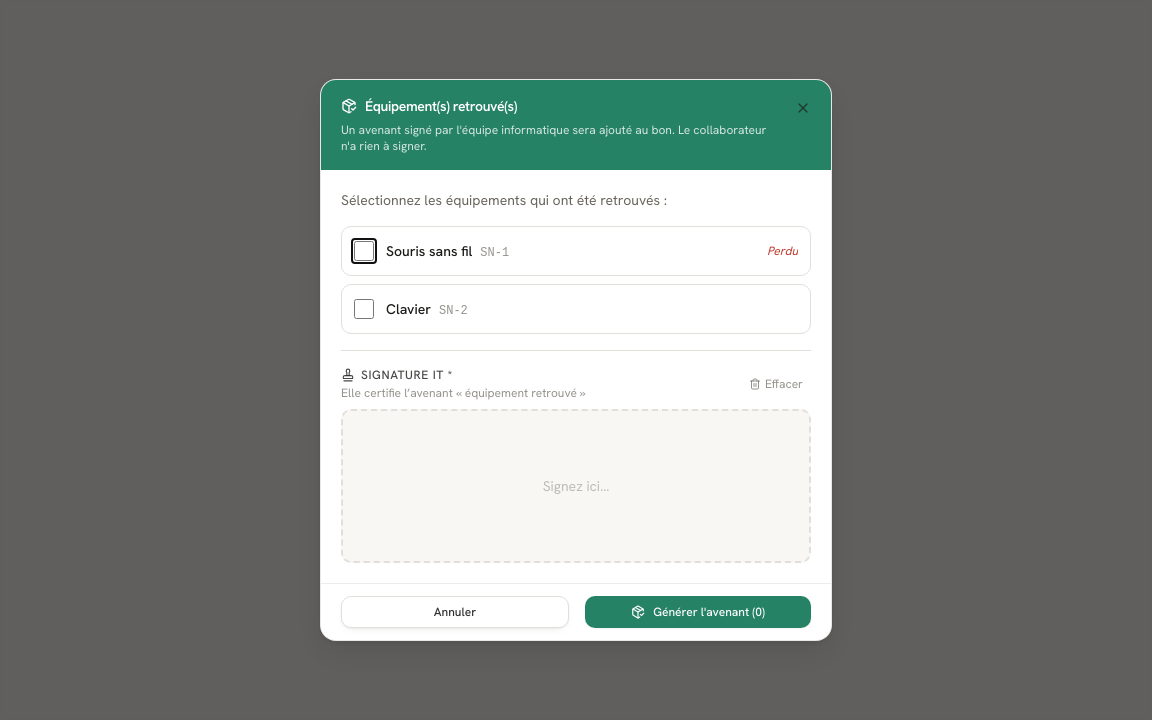
Test case: MarkFoundModal › bon clôturé : la signature IT de l’avenant est obligatoire
Click the 1st checkbox. click: (364,251)
box: 354,241 -> 374,261
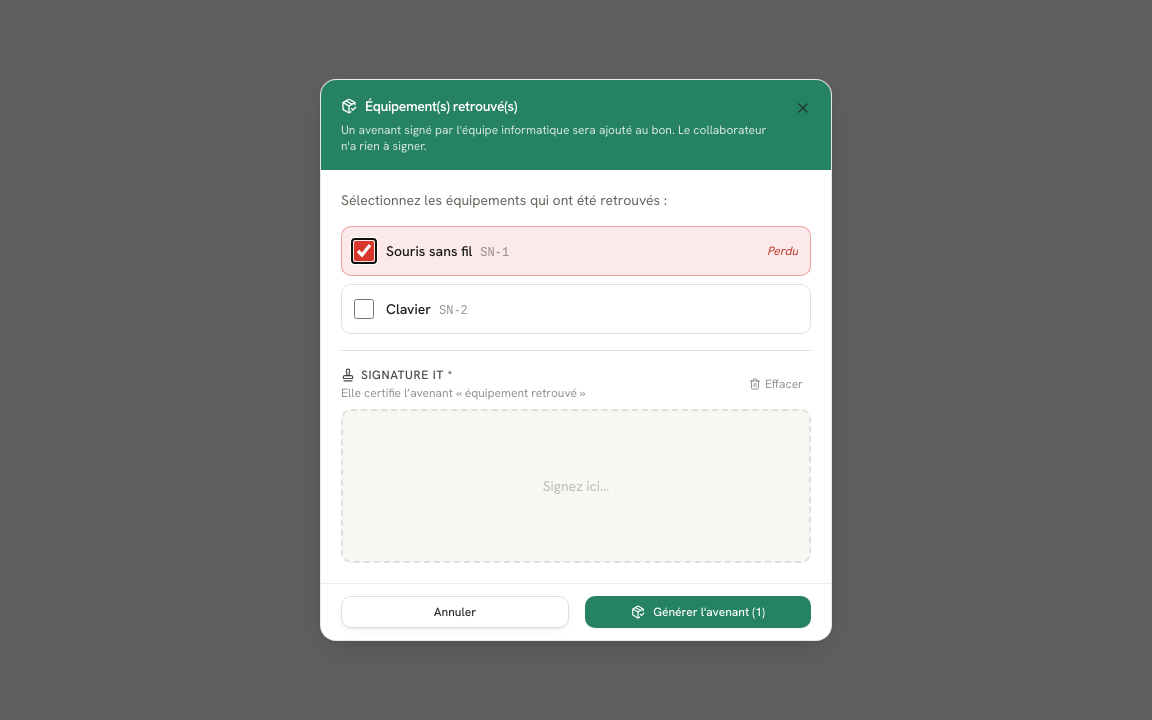
Click the button "Générer l'avenant (1)". click: (698,612)
box: 585,596 -> 811,628
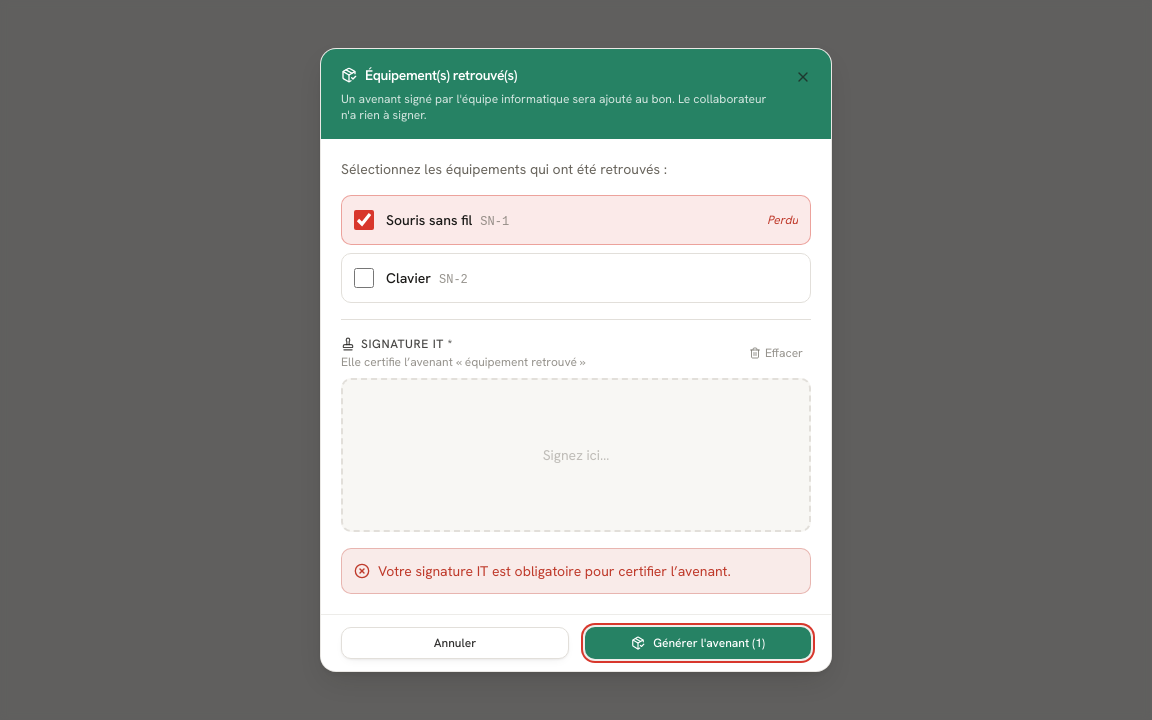
Now the text "Votre signature IT est obligatoire pour certifier l’avenant." is shown, box 378,561 -> 731,581
